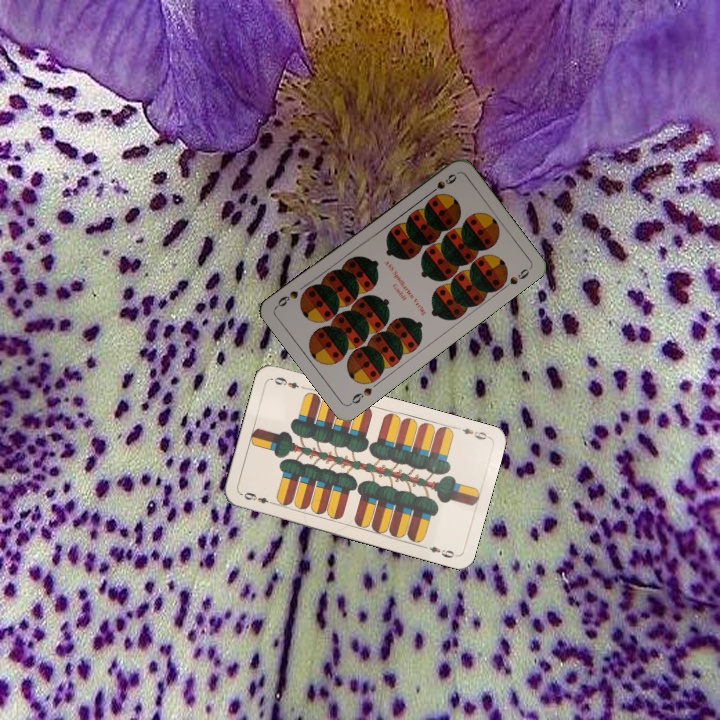E9: (451, 423, 491, 443), (237, 488, 277, 507)
S9: (424, 169, 460, 198), (346, 383, 375, 408)
